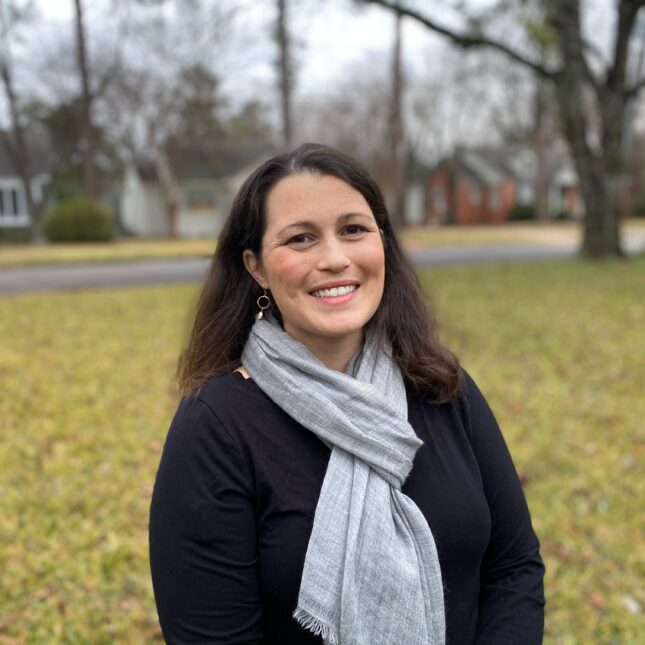without_mask: (252, 179, 387, 328)
